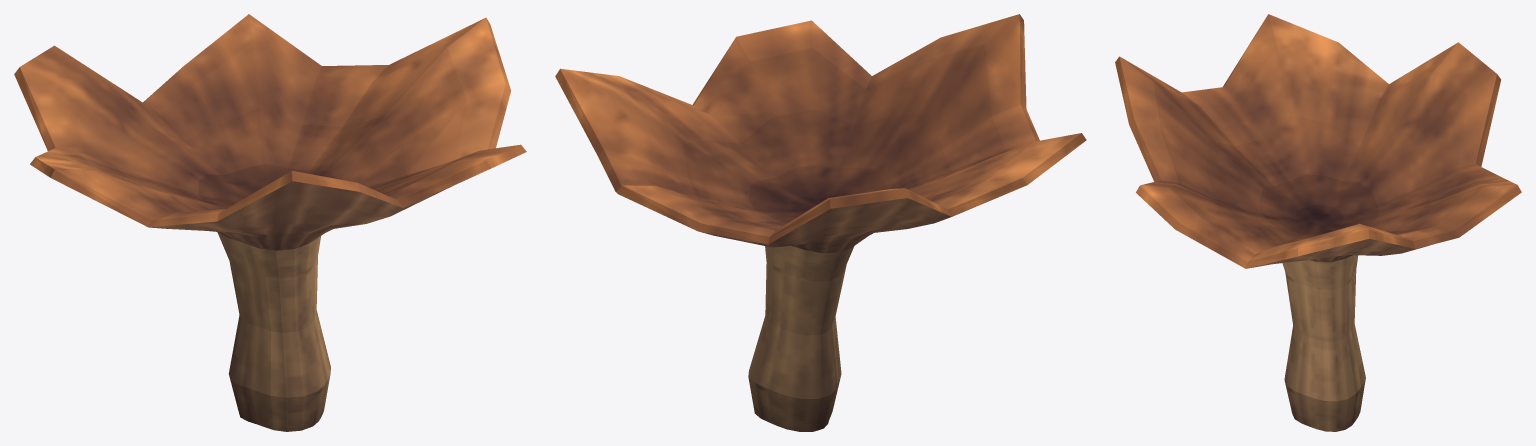
Rendered from Trombeta-de-Cobre-02-Roseta.glb.
3 views of the same model, side by side, from view 1: azimuth 30°, elevation 25°; view 2: azimuth 150°, elevation 25°; view 3: azimuth 270°, elevation 25° (orthographic). The views are drawn at different scales.
Parts seen in each view (by area): view 1: Roseta; view 2: Roseta; view 3: Roseta.
Boxes of the visible parts, box(x1,y1,x2,y2) form: Roseta: box(14, 14, 526, 431); Roseta: box(555, 14, 1086, 431); Roseta: box(1115, 14, 1521, 431).
Size of the model in its own units: 0.2066 by 0.1423 by 0.1686.
1 material, 1 textured.
